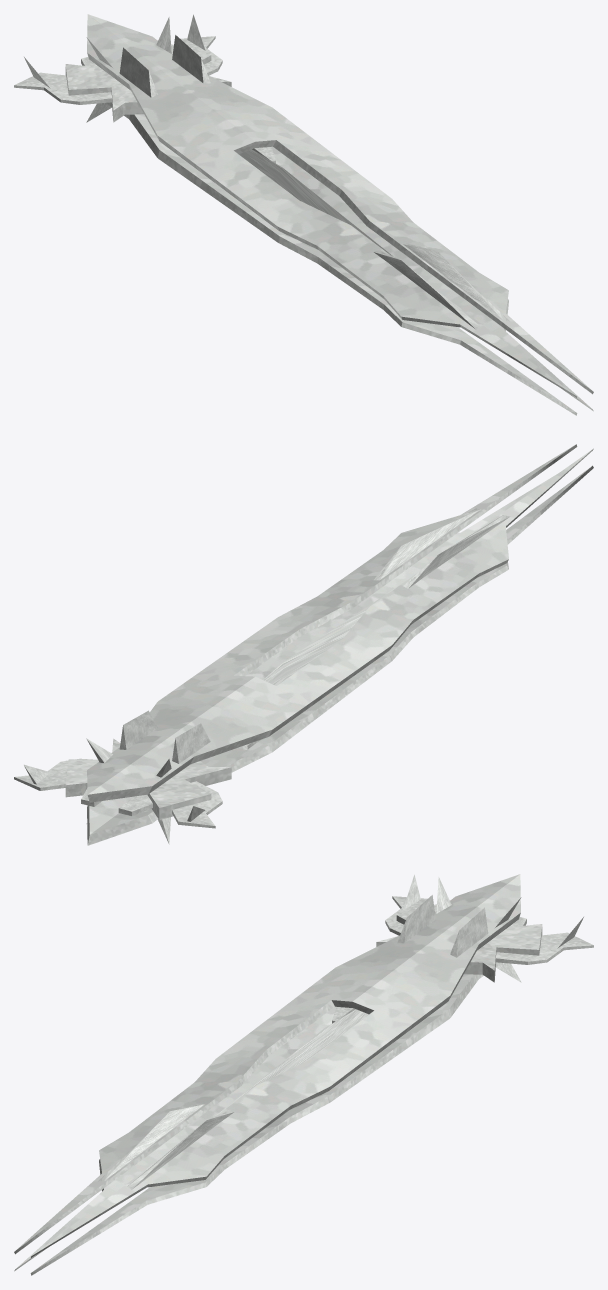
Rendered from agesipolis.obj.
The picture shows the model from 3 angles, top to bottom: view 1: azimuth 30°, elevation 25°; view 2: azimuth 150°, elevation 25°; view 3: azimuth 330°, elevation 25°; orthographic projection.
Bounding box in the file's own units: 30.86 × 12.82 × 132.
